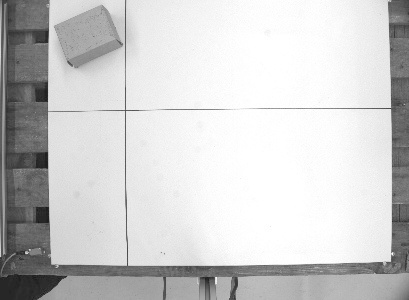b6: (51, 3, 123, 68)
